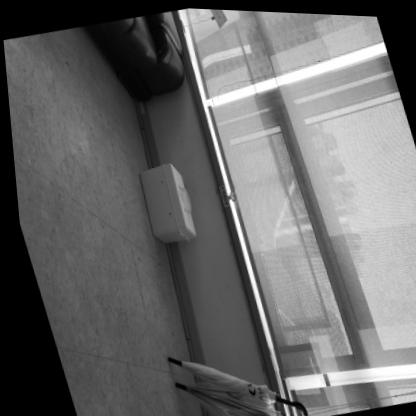DDL: (129, 159, 196, 245)
